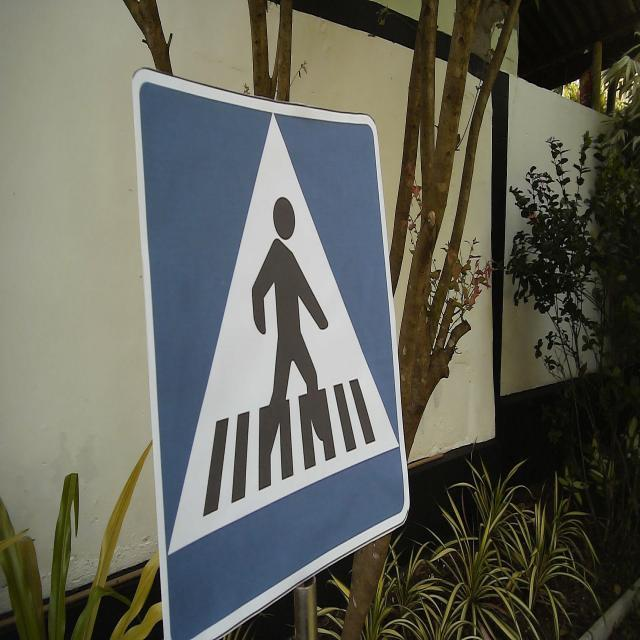crosswalk_sign: (130, 64, 412, 640)
